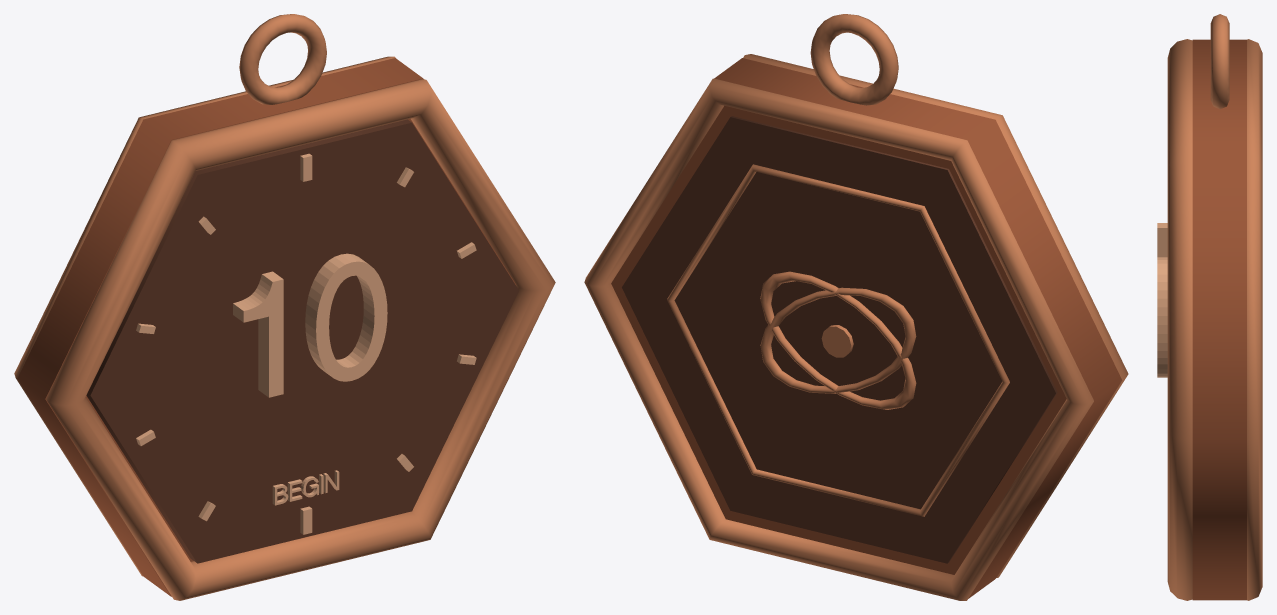
Rendered from bronze10.glb.
3 renders of one model, left to right at view 1: azimuth 30°, elevation 25°; view 2: azimuth 150°, elevation 25°; view 3: azimuth 270°, elevation 25°, orthographic. The views are drawn at different scales.
Visible parts, largest first — view 1: base-inner, base-rim, base-body, relief-count, base-loop, base-back-rim, relief-ticks, relief-label; view 2: base-back-inner, base-back-rim, base-body, base-back-hallmark, base-rim, base-loop; view 3: base-body, base-rim, base-back-rim, base-loop, relief-count.
Part boxes in pixels (<box>): base-inner: <box>86,119,518,563</box>; base-rim: <box>46,79,555,600</box>; base-body: <box>17,58,515,596</box>; relief-count: <box>233,253,387,397</box>; base-loop: <box>239,14,326,104</box>; base-back-rim: <box>14,56,395,576</box>; relief-ticks: <box>136,153,476,534</box>; relief-label: <box>272,470,339,505</box>; base-back-inner: <box>622,116,1057,563</box>; base-back-rim: <box>584,78,1093,600</box>; base-body: <box>611,58,1122,598</box>; base-back-hallmark: <box>667,164,1009,516</box>; base-rim: <box>743,54,1128,577</box>; base-loop: <box>810,14,898,105</box>; base-body: <box>1192,39,1246,600</box>; base-rim: <box>1167,39,1192,600</box>; base-back-rim: <box>1247,39,1262,600</box>; base-loop: <box>1210,14,1229,109</box>; relief-count: <box>1157,223,1167,377</box>.
Size of the model in its own units: 1.54 by 1.58 by 0.2875.
